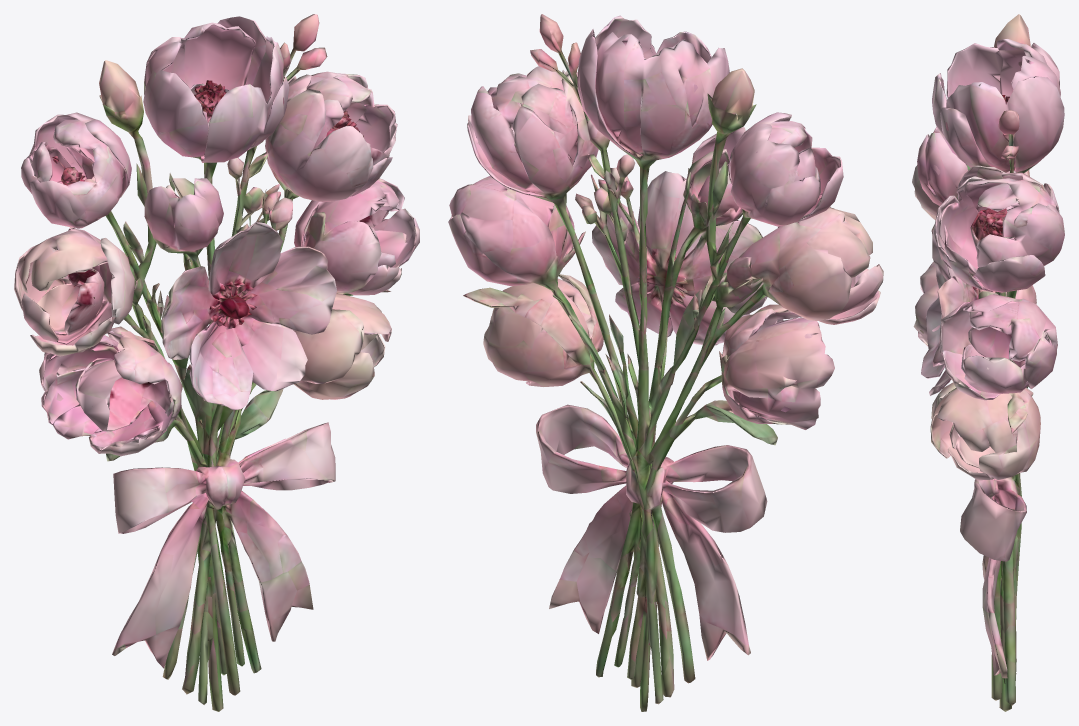
3 views of the same model, side by side, from view 1: azimuth 30°, elevation 25°; view 2: azimuth 150°, elevation 25°; view 3: azimuth 270°, elevation 25° (orthographic). The views are drawn at different scales.
Bounding box in the file's own units: 1.19 × 1.9 × 0.4011.
Materials: 1 (1 with a texture image).
